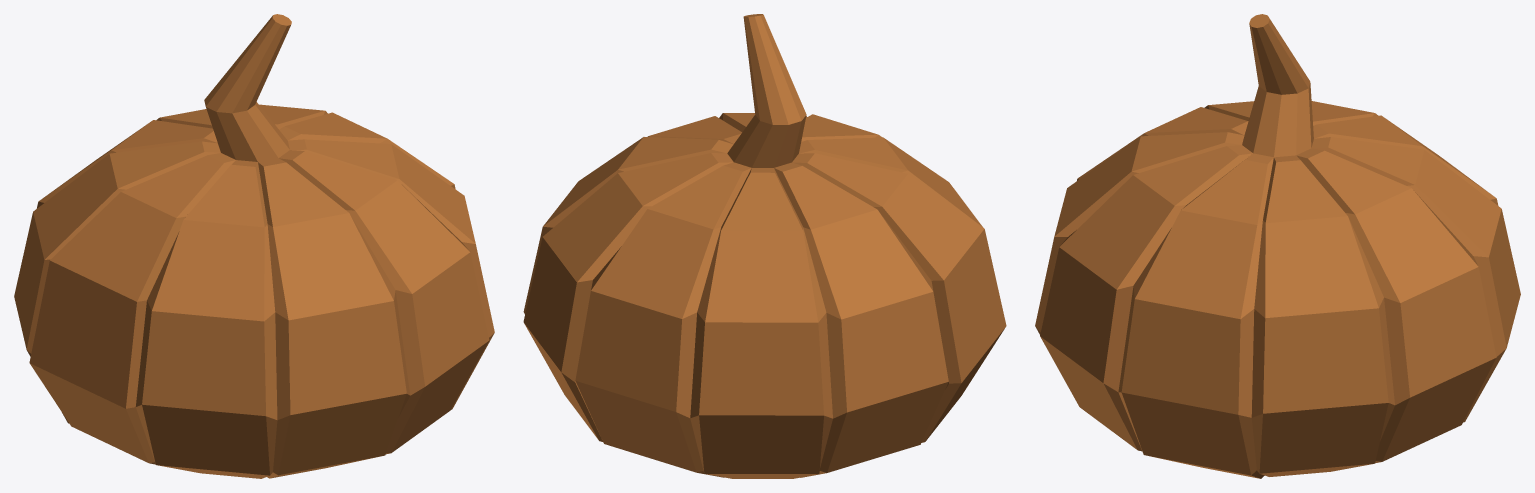
The model's file is Pumpkin_Crop.glb.
3 views of the same model, side by side, from view 1: azimuth 30°, elevation 25°; view 2: azimuth 150°, elevation 25°; view 3: azimuth 270°, elevation 25° (orthographic). The views are drawn at different scales.
Parts seen in each view (by area): view 1: Pumpkin_Crop_Cylinder.001; view 2: Pumpkin_Crop_Cylinder.001; view 3: Pumpkin_Crop_Cylinder.001.
Boxes of the visible parts, x1,y1,x2,y2 form: Pumpkin_Crop_Cylinder.001: (14, 14, 494, 478); Pumpkin_Crop_Cylinder.001: (523, 14, 1006, 478); Pumpkin_Crop_Cylinder.001: (1035, 14, 1520, 478).
Bounding box in the file's own units: 0.5875 × 0.5544 × 0.5781.
